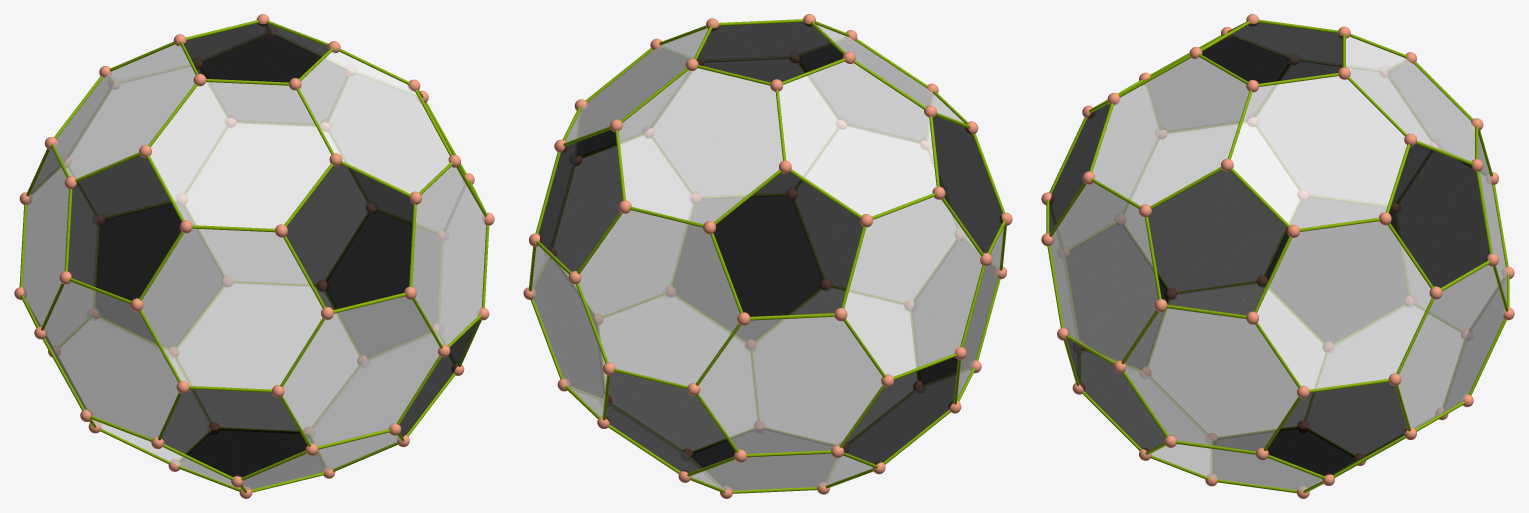
Rendered from truncated_icosahedron-completo.glb.
3 renders of one model, left to right at view 1: azimuth 30°, elevation 25°; view 2: azimuth 150°, elevation 25°; view 3: azimuth 270°, elevation 25°, orthographic.
Visible parts, largest first — view 1: mesh_74, mesh_79, mesh_75, mesh_78, mesh_76, mesh_77, mesh_117, mesh_118, mesh_114, mesh_149, mesh_150, mesh_154 (+128 smaller); view 2: mesh_45, mesh_40, mesh_44, mesh_41, mesh_43, mesh_42, mesh_80, mesh_132, mesh_84, mesh_131, mesh_133, mesh_47 (+144 smaller); view 3: mesh_109, mesh_108, mesh_110, mesh_113, mesh_111, mesh_112, mesh_64, mesh_63, mesh_138, mesh_142, mesh_137, mesh_141 (+141 smaller).
Boxes of the visible parts, x1,y1,x2,y2 form: mesh_74: (186,309,274,389); mesh_79: (141,304,231,381); mesh_75: (232,308,322,385); mesh_78: (142,232,231,308); mesh_76: (232,236,322,312); mesh_77: (190,228,277,308); mesh_117: (186,128,275,203); mesh_118: (234,123,319,202); mesh_114: (277,204,366,279); mesh_149: (203,82,291,155); mesh_150: (150,85,240,155); mesh_154: (241,89,331,159); mesh_45: (579,278,659,363); mesh_40: (613,298,691,386); mesh_44: (580,213,659,297); mesh_41: (660,298,738,383); mesh_43: (628,210,705,297); mesh_42: (660,233,739,316); mesh_80: (878,217,955,299); mesh_132: (622,70,701,146); mesh_84: (845,126,921,213); mesh_131: (693,68,771,146); mesh_133: (618,127,700,202); mesh_47: (744,385,833,453); mesh_109: (1344,293,1431,374); mesh_108: (1306,305,1390,389); mesh_110: (1344,224,1430,304); mesh_113: (1258,305,1343,385); mesh_111: (1297,221,1381,304); mesh_112: (1257,237,1343,316); mesh_64: (1174,208,1258,291); mesh_63: (1213,196,1299,275); mesh_138: (1231,91,1318,164); mesh_142: (1319,79,1404,152); mesh_137: (1257,76,1342,152); mesh_141: (1319,141,1406,214).
Size of the model in its own units: 8.23 by 7.9 by 8.11.
